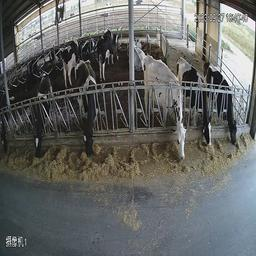cow: (141, 52, 191, 169), (71, 56, 109, 184), (177, 53, 218, 150), (204, 58, 241, 139), (32, 68, 59, 164), (59, 30, 87, 87), (95, 24, 121, 82), (133, 32, 150, 71)
